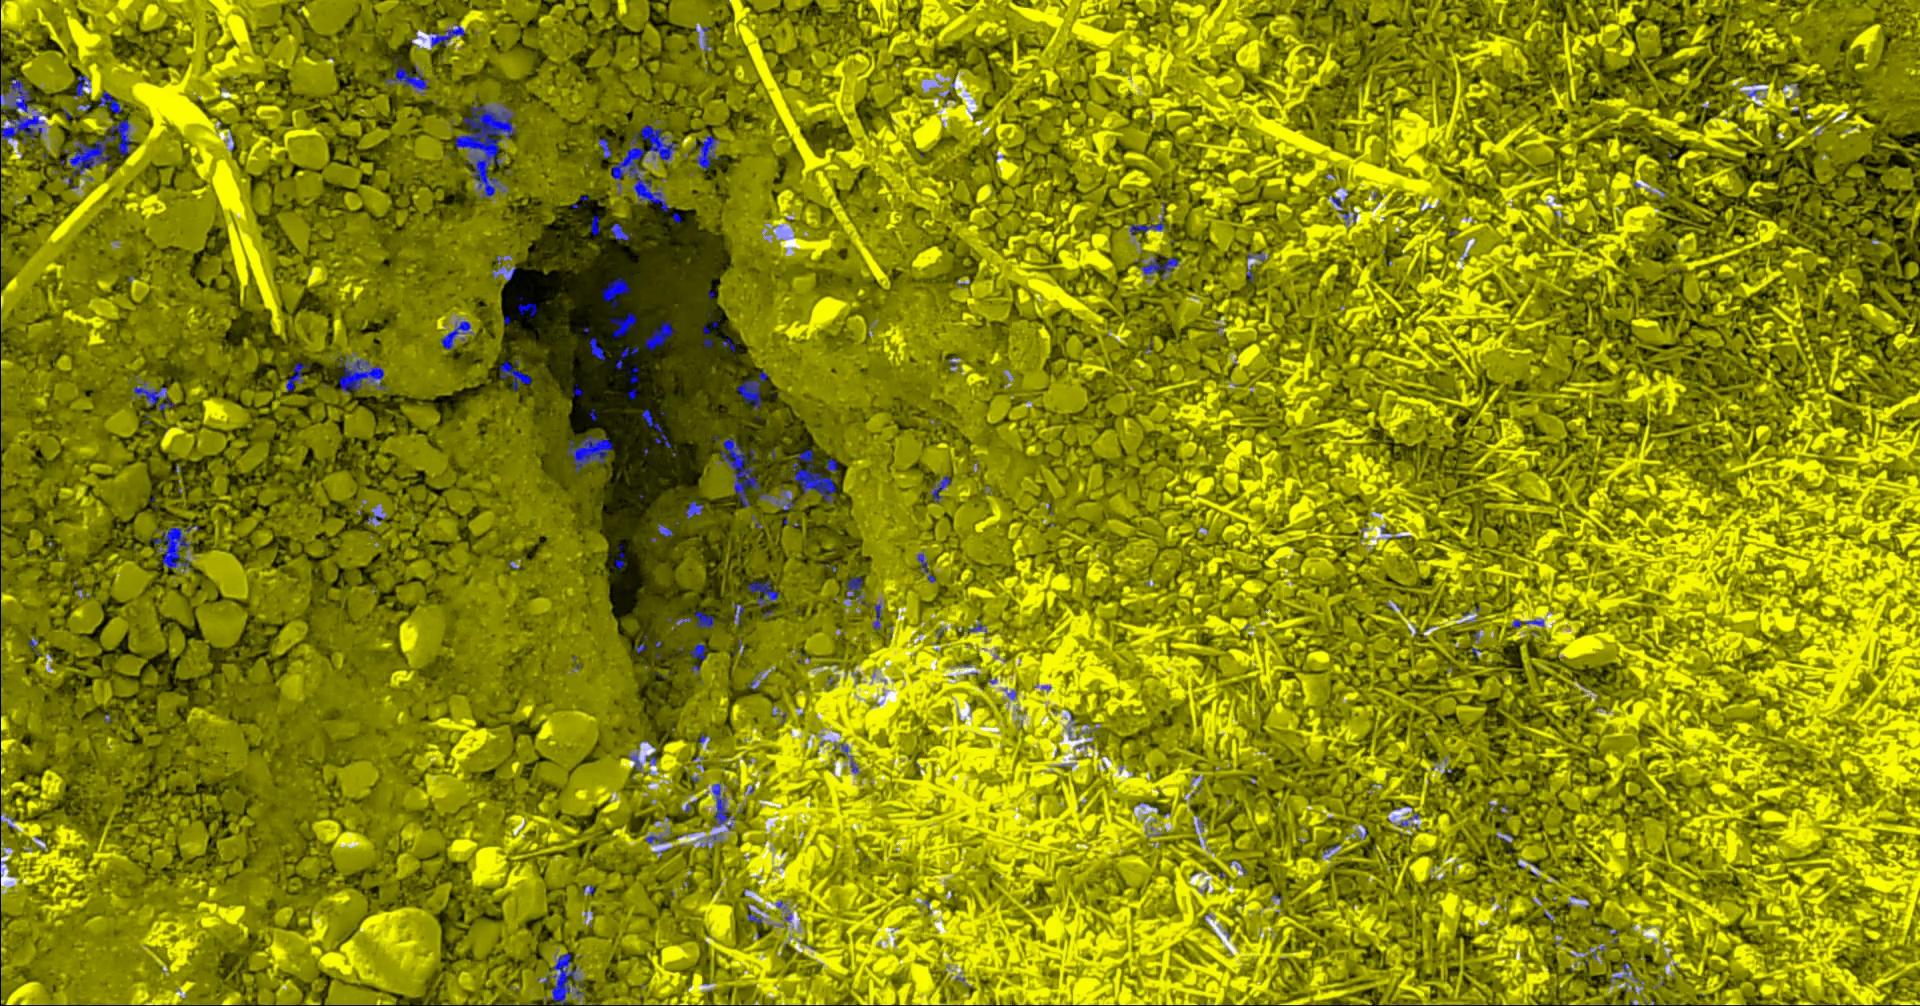ant: (789, 448, 836, 503), (149, 525, 198, 569), (543, 953, 584, 1005), (338, 356, 389, 392), (565, 434, 612, 473), (0, 72, 36, 112), (1129, 202, 1168, 235), (385, 65, 427, 94), (0, 116, 43, 144), (737, 370, 767, 409), (133, 381, 173, 410), (641, 408, 670, 447), (711, 782, 734, 829), (599, 277, 631, 309), (499, 358, 531, 390), (644, 320, 674, 351), (439, 320, 471, 349), (1140, 257, 1178, 279), (747, 579, 778, 606), (695, 133, 719, 168), (425, 25, 463, 47), (610, 311, 636, 339), (844, 575, 869, 606), (284, 362, 309, 391), (97, 90, 122, 113), (615, 345, 637, 370), (931, 475, 950, 502), (702, 320, 717, 347), (517, 296, 536, 316), (610, 222, 631, 240), (588, 337, 604, 359), (684, 500, 703, 518), (75, 75, 90, 97), (695, 610, 712, 627), (690, 641, 706, 661), (1399, 812, 1418, 827), (1511, 619, 1543, 627), (598, 138, 611, 158), (733, 602, 743, 625), (615, 544, 623, 568), (644, 835, 668, 843), (723, 337, 735, 352), (627, 365, 637, 384), (822, 459, 837, 471), (657, 523, 672, 536), (917, 553, 927, 572), (872, 603, 880, 629), (590, 215, 599, 235), (782, 497, 792, 511)
